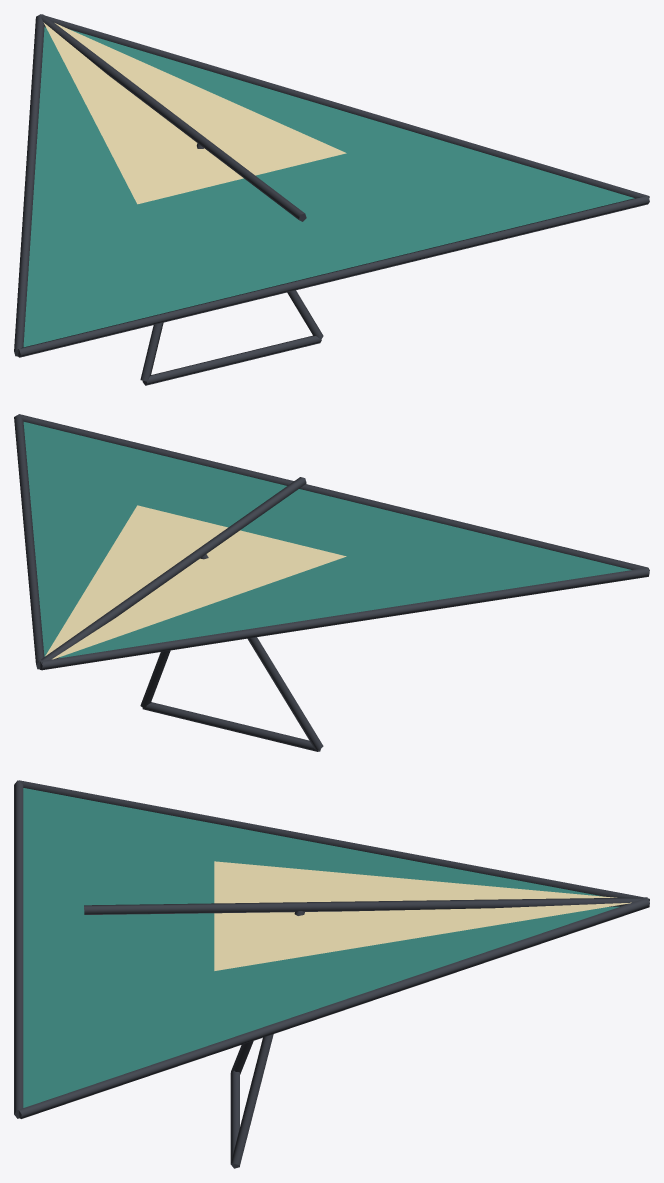
File: glider.glb
3 views of the same model, one above another, from view 1: azimuth 30°, elevation 25°; view 2: azimuth 150°, elevation 25°; view 3: azimuth 270°, elevation 25° (orthographic). The views are drawn at different scales.
Visible parts, largest first — view 1: Glider; view 2: Glider; view 3: Glider.
Boxes of the visible parts, box(x1,y1,x2,y2) form: Glider: box(14, 14, 649, 385); Glider: box(14, 414, 649, 751); Glider: box(14, 780, 649, 1168).
Size of the model in its own units: 1.82 by 0.5734 by 1.47.
